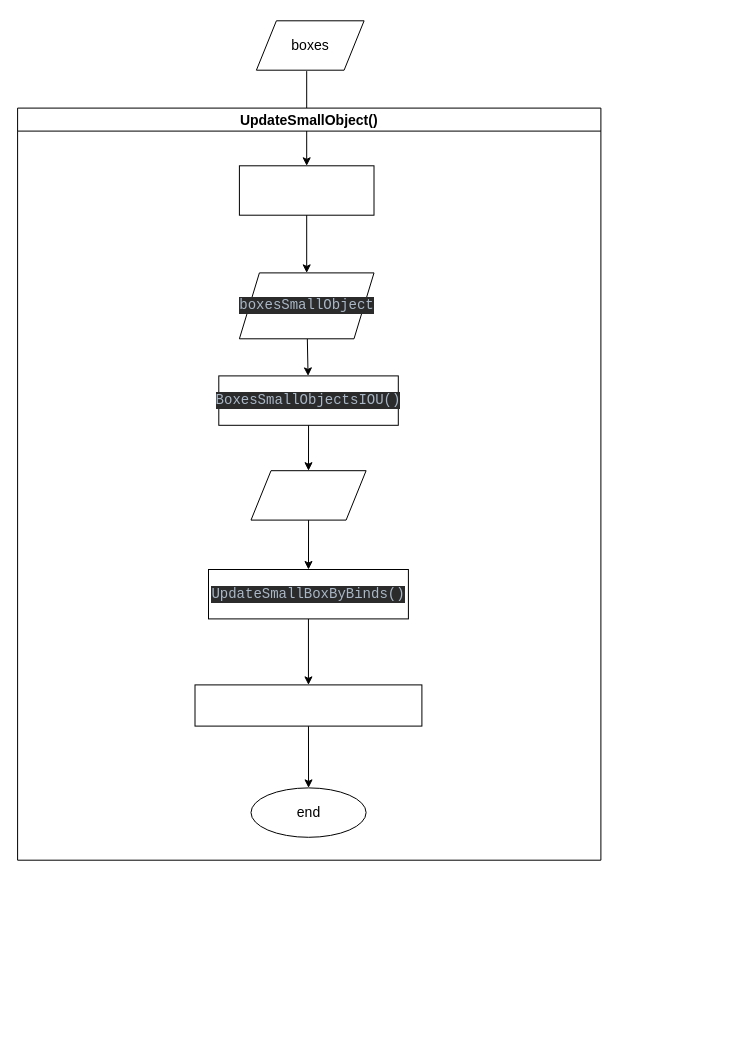
This 737x1064 diagram has some shape labels left out. Here are the shapes that lost their labels. From the top down, the centre of each, then its label:
pixel 306 190: FilterObject()
pixel 308 495: binds
pixel 308 705: RemoveSmallObject()
